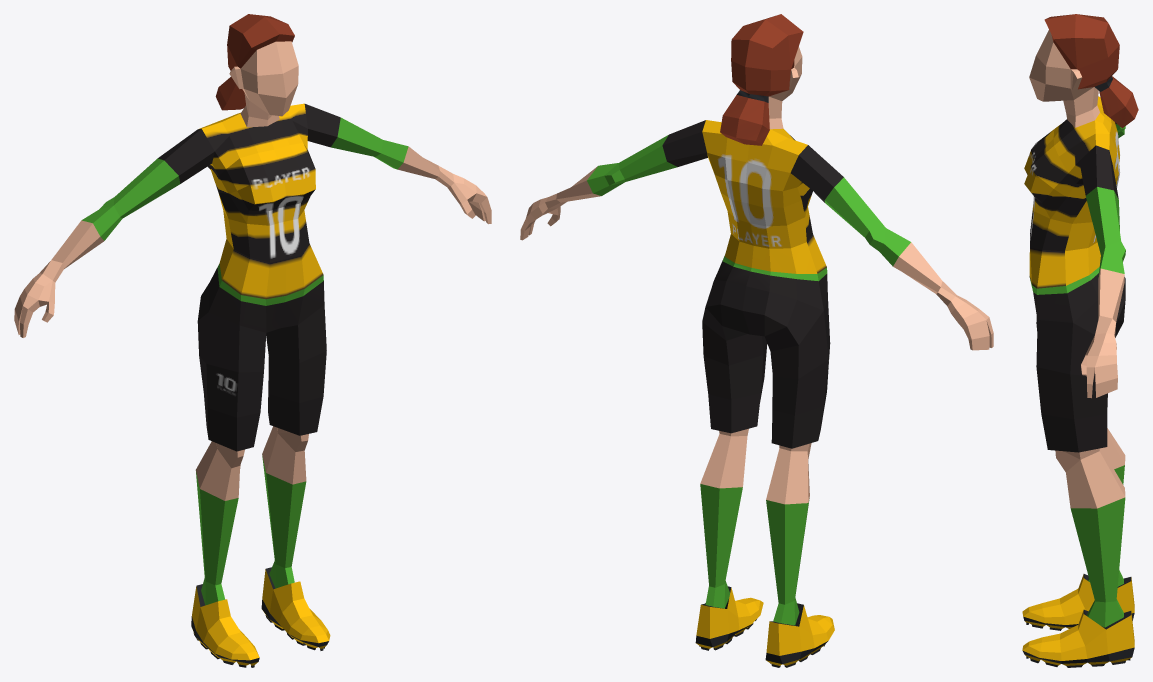
File: SoccerWomanA.gltf
3 renders of one model, left to right at view 1: azimuth 30°, elevation 25°; view 2: azimuth 150°, elevation 25°; view 3: azimuth 270°, elevation 25°, orthographic.
Parts seen in each view (by area): view 1: Soccer Woman A; view 2: Soccer Woman A; view 3: Soccer Woman A.
Boxes of the visible parts, x1,y1,x2,y2 form: Soccer Woman A: (14, 14, 491, 667); Soccer Woman A: (520, 14, 993, 667); Soccer Woman A: (1022, 14, 1138, 667).
Size of the model in its own units: 1.26 by 1.6 by 0.2677.
Materials: 1 (1 with a texture image).
